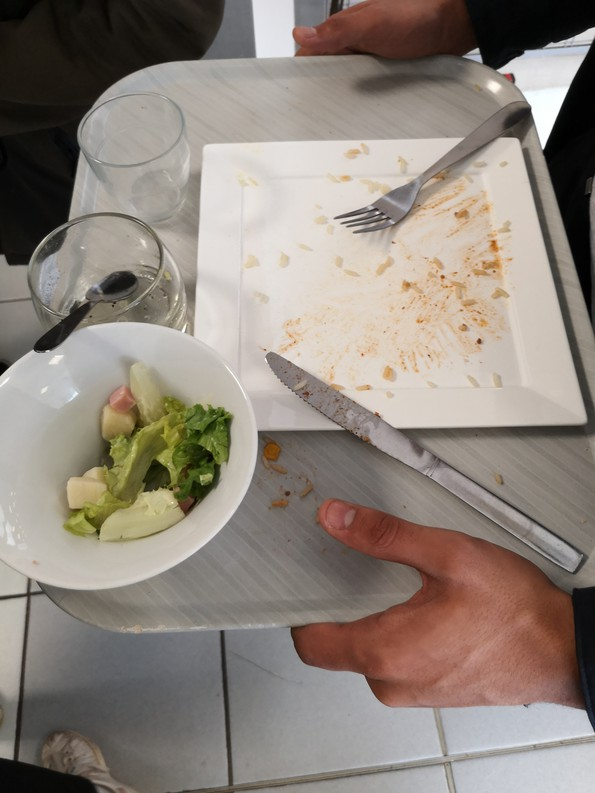cup: (63, 98, 230, 229)
cutlery: (259, 344, 595, 569), (328, 97, 538, 245), (28, 267, 142, 350)
orga: (78, 381, 237, 543)
